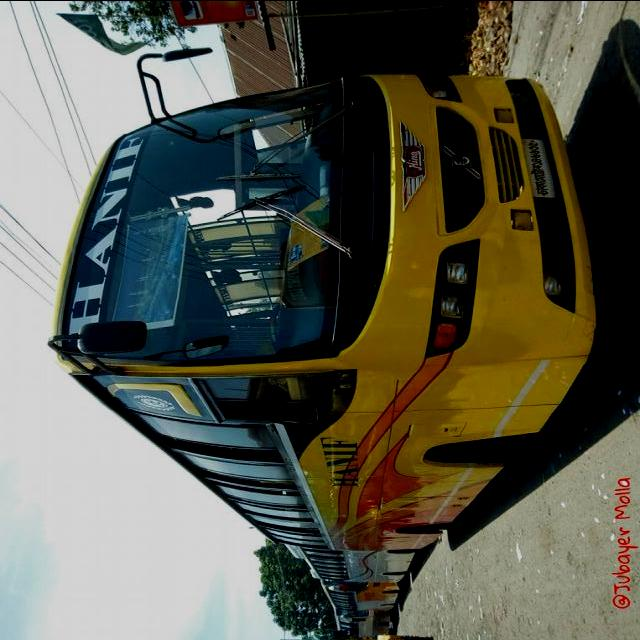bus: (42, 46, 602, 553)
